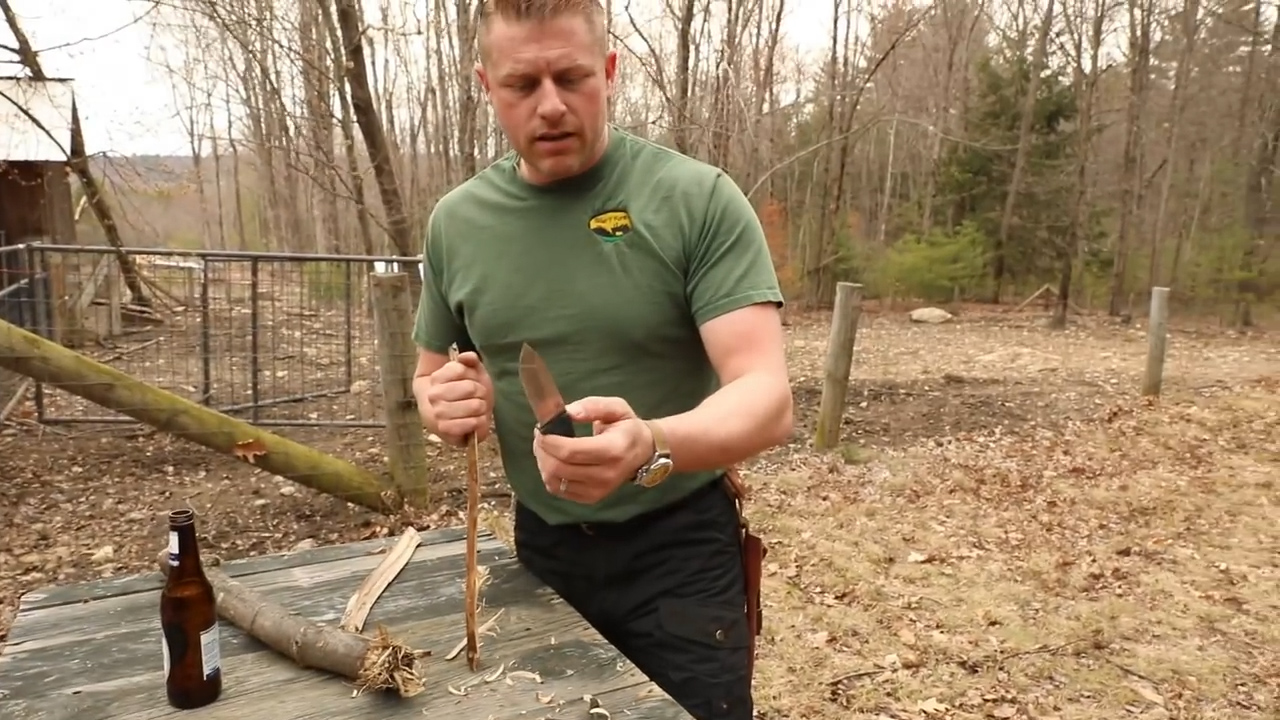knife: (502, 328, 625, 506)
